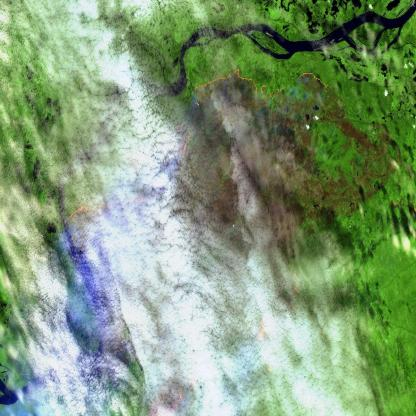fire: (188, 51, 354, 114), (141, 114, 196, 162)
